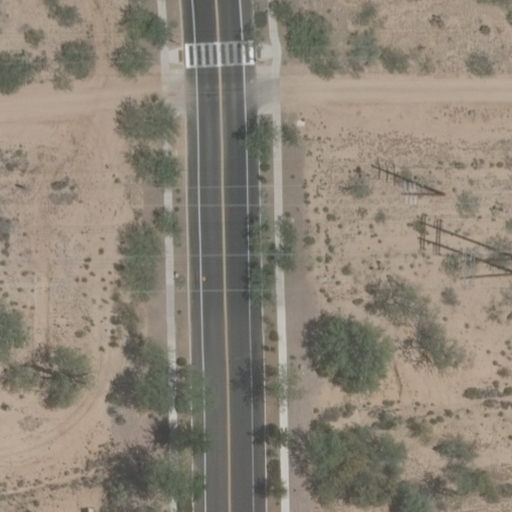DT: (400, 181, 443, 203)
TT: (453, 242, 511, 287)
